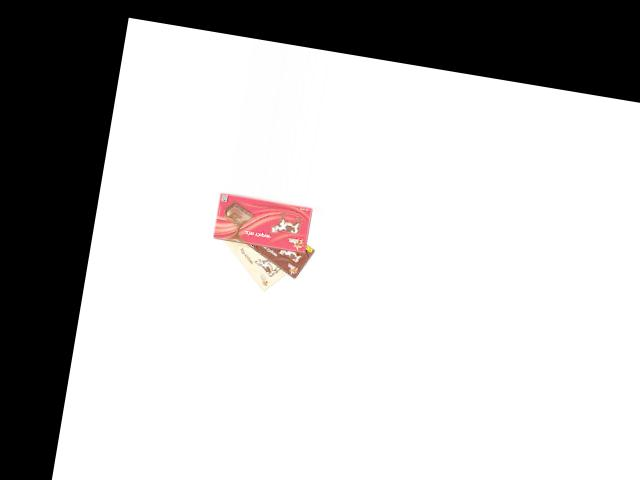chocolate: (208, 230, 302, 297)
